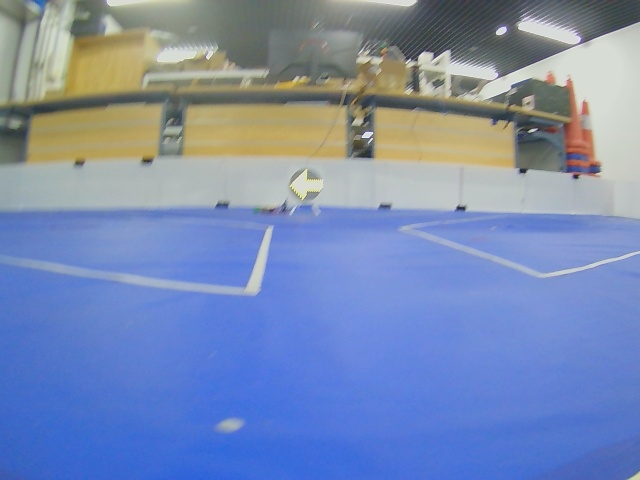left_yellow: (289, 168, 324, 201)
